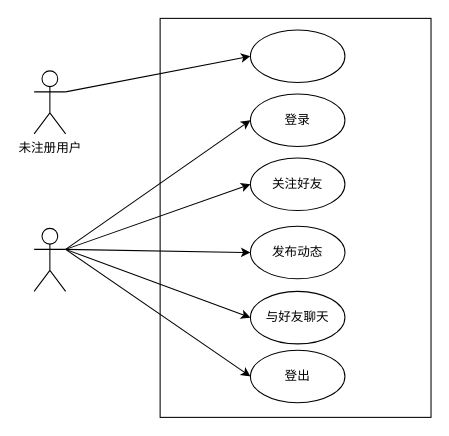
Some shapes in this 449 by 436 pixel diagram are drawn without their labels. Here are the shapes that lost their labels. From the top down, the centre of each, then its label:
the point at 297,55: 注册
the point at 49,259: 已注册用户
